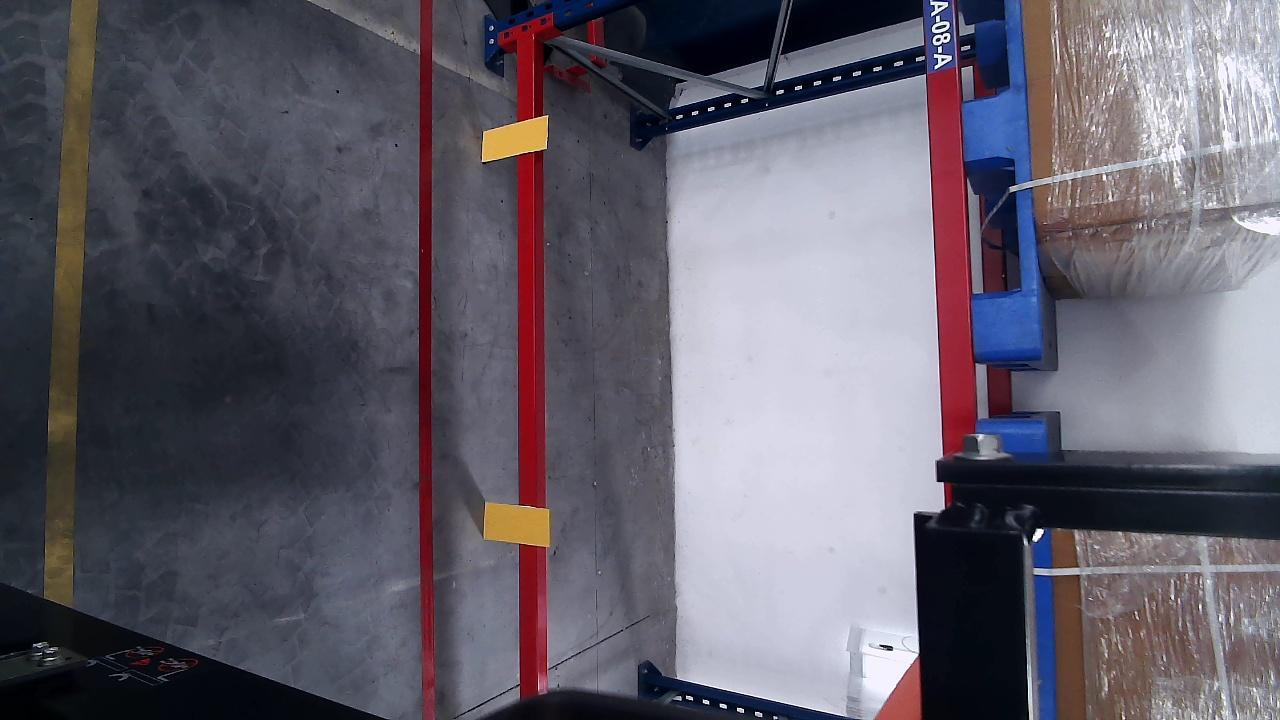h_rack: (925, 1, 978, 453), (517, 30, 538, 692)
orange_strip: (476, 117, 548, 162), (483, 503, 550, 546)
red_line: (417, 1, 441, 718)
small_pallet: (950, 0, 1042, 346)
yellow_line: (36, 1, 100, 608)
